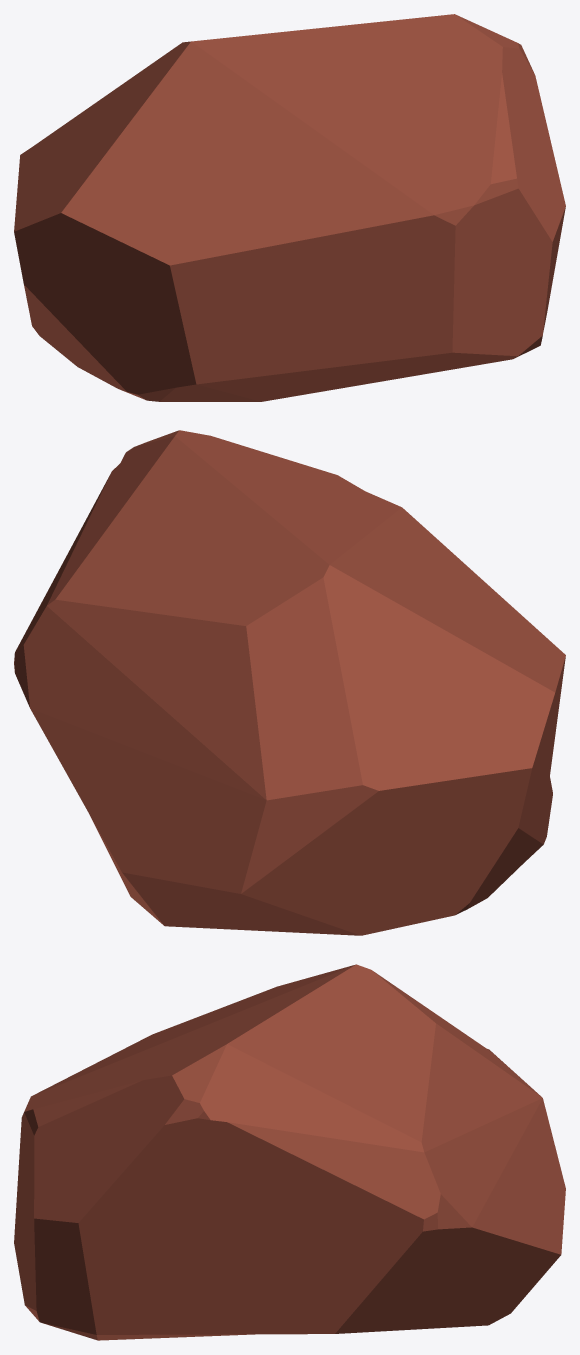
File: Rock_Small_002.fbx
3 renders of one model, top to bottom at view 1: azimuth 30°, elevation 25°; view 2: azimuth 150°, elevation 25°; view 3: azimuth 270°, elevation 25°, orthographic. The views are drawn at different scales.
Parts seen in each view (by area): view 1: Rock_Small_002; view 2: Rock_Small_002; view 3: Rock_Small_002.
Part boxes in pixels (x1,y1,x2,y2): Rock_Small_002: (14, 14, 565, 401); Rock_Small_002: (14, 430, 565, 935); Rock_Small_002: (14, 964, 565, 1340).
Bounding box in the file's own units: 252 × 174 × 260.
